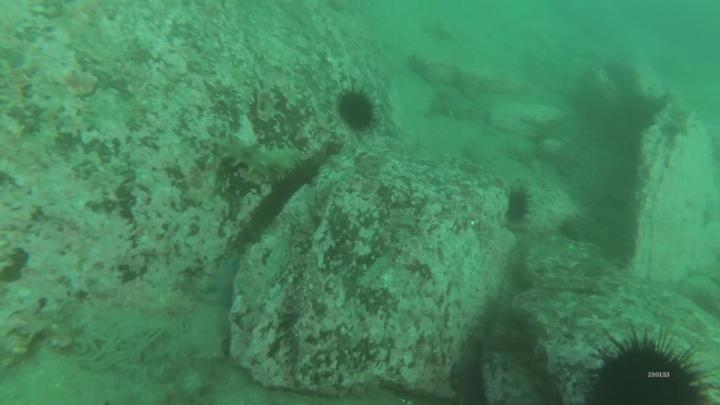echinus: (582, 344, 701, 405), (340, 94, 375, 128), (508, 190, 528, 223)
holothurian: (218, 145, 299, 174)
